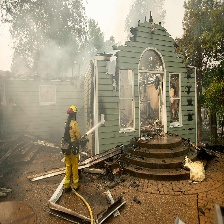smoke: (8, 29, 82, 130)
